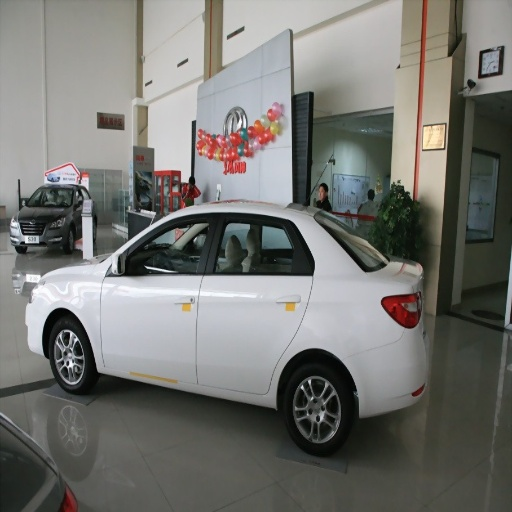back_bumper: (348, 324, 427, 415)
back_glass: (324, 219, 386, 270)
back_left_door: (198, 212, 316, 393)
